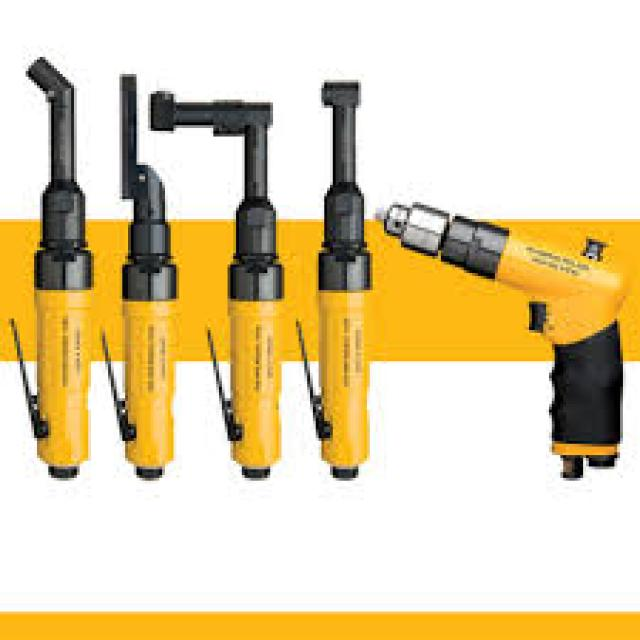driller: (385, 204, 625, 478)
